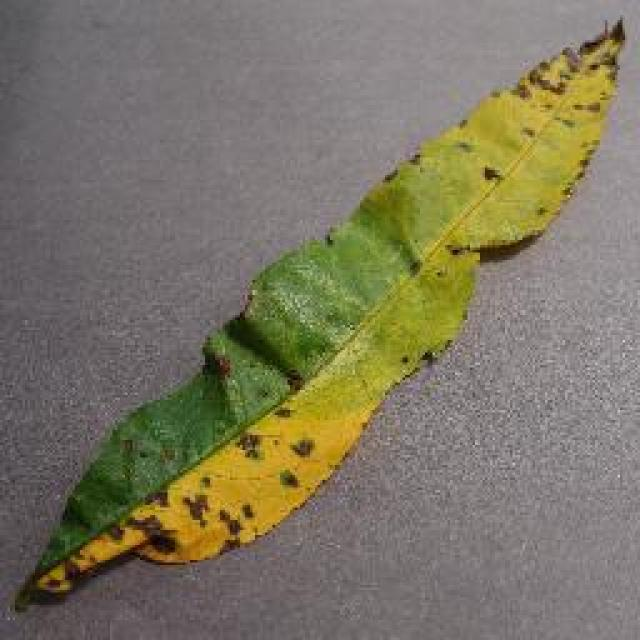Peach_Bacterial_Spot: (354, 48, 594, 250)
